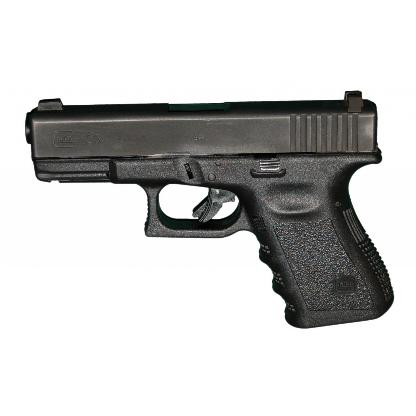gun: (24, 92, 398, 328)
